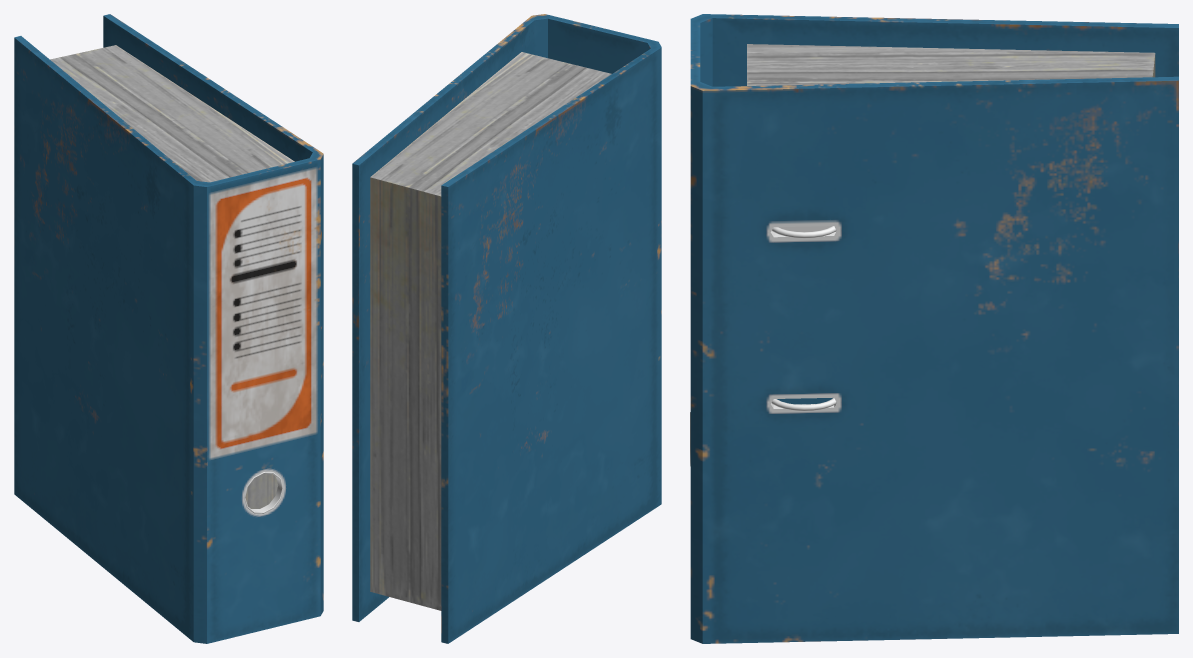
Rendered from SM_Folder_01.fbx.
3 views of the same model, side by side, from view 1: azimuth 30°, elevation 25°; view 2: azimuth 150°, elevation 25°; view 3: azimuth 270°, elevation 25° (orthographic). The views are drawn at different scales.
Visible parts, largest first — view 1: SM_Folder_01; view 2: SM_Folder_01; view 3: SM_Folder_01.
Part boxes in pixels (<box>): SM_Folder_01: <box>14,14,323,643</box>; SM_Folder_01: <box>352,14,661,643</box>; SM_Folder_01: <box>690,14,1178,643</box>.
Size of the model in its own units: 13.95 by 36.03 by 45.
1 material, 1 textured.
